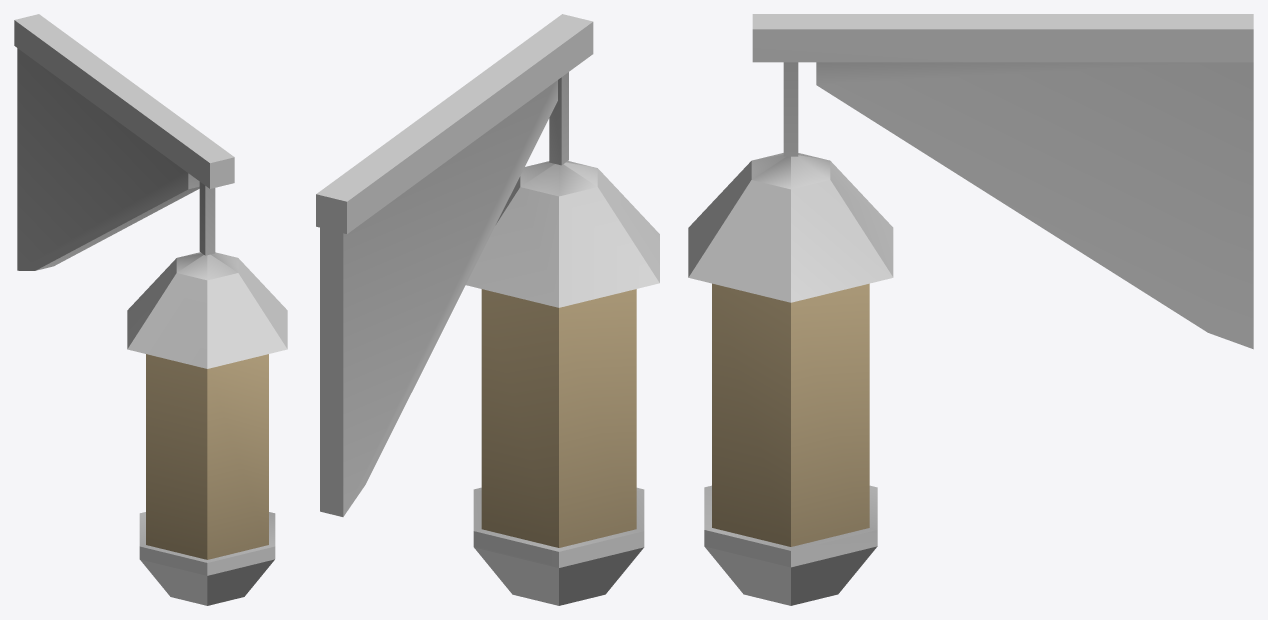
Rendered from lamp_bracket.glb.
3 views of the same model, side by side, from view 1: azimuth 30°, elevation 25°; view 2: azimuth 150°, elevation 25°; view 3: azimuth 270°, elevation 25° (orthographic). The views are drawn at different scales.
Visible parts, largest first — view 1: lamp_bracket_MC_Roof, lamp_bracket_MC_Glow; view 2: lamp_bracket_MC_Roof, lamp_bracket_MC_Glow; view 3: lamp_bracket_MC_Roof, lamp_bracket_MC_Glow.
Boxes of the visible parts, bbox=[...] form: lamp_bracket_MC_Roof: bbox=[14, 14, 287, 605]; lamp_bracket_MC_Glow: bbox=[146, 354, 268, 559]; lamp_bracket_MC_Roof: bbox=[316, 14, 659, 605]; lamp_bracket_MC_Glow: bbox=[481, 289, 636, 547]; lamp_bracket_MC_Roof: bbox=[688, 14, 1253, 605]; lamp_bracket_MC_Glow: bbox=[712, 283, 869, 546].
Size of the model in its own units: 0.26 by 0.68 by 0.6206.
